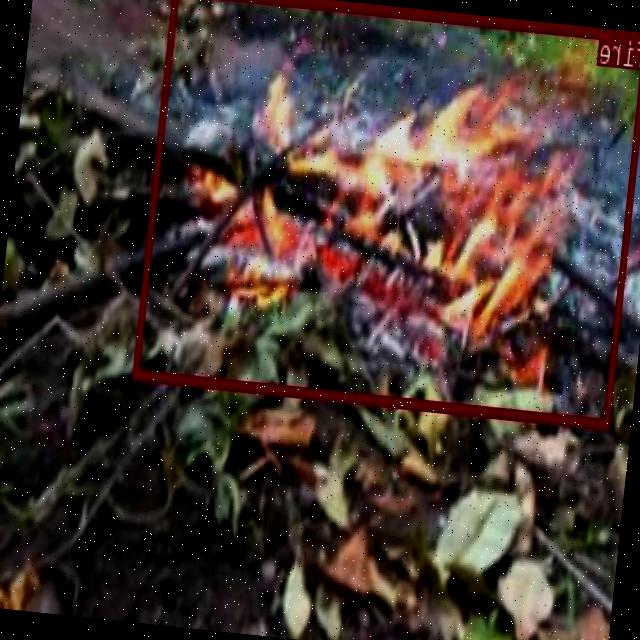fire: (133, 0, 640, 429)
